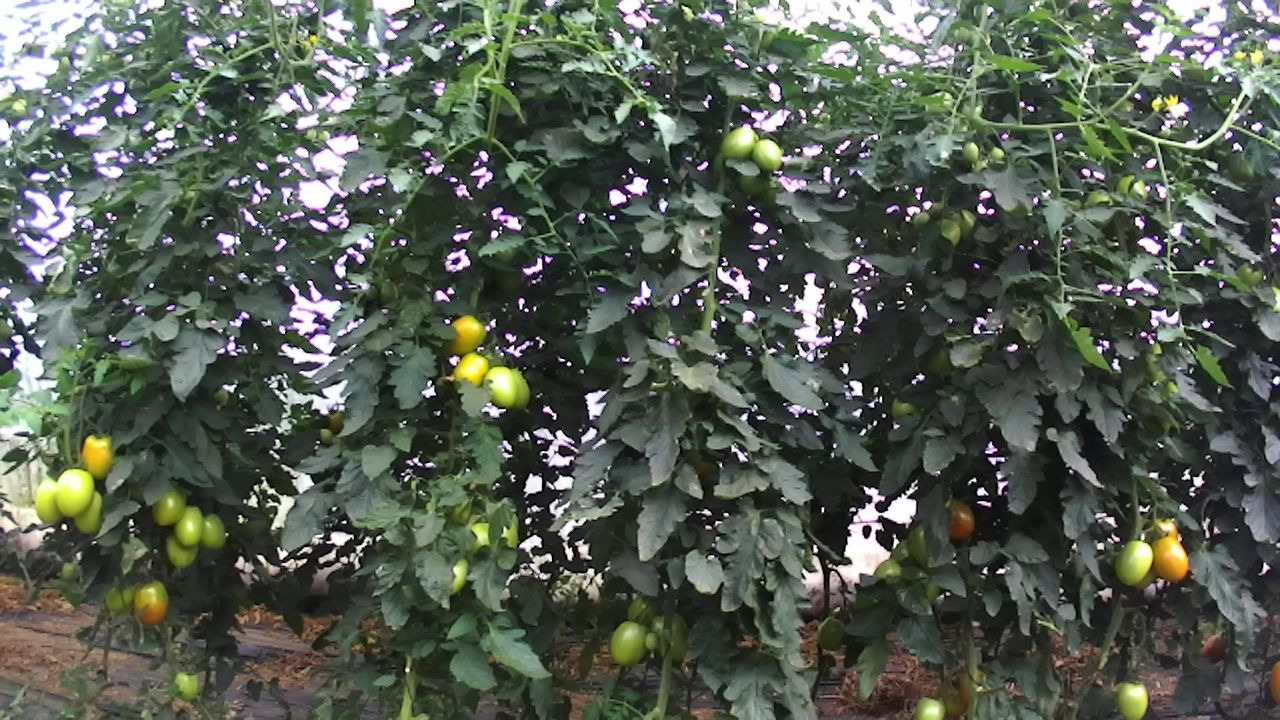tomato: (53, 465, 95, 520), (1111, 538, 1155, 587), (1149, 533, 1190, 584), (608, 619, 650, 668), (132, 576, 170, 626), (444, 312, 488, 355), (481, 363, 520, 410), (149, 482, 188, 527), (80, 431, 115, 481), (72, 487, 106, 538), (450, 350, 491, 389), (944, 495, 978, 541), (171, 501, 204, 548), (32, 476, 63, 525), (1114, 679, 1150, 720), (719, 125, 759, 161), (198, 511, 228, 552), (815, 615, 848, 652), (750, 137, 784, 172), (913, 694, 948, 720), (173, 669, 199, 702), (642, 630, 660, 653)
